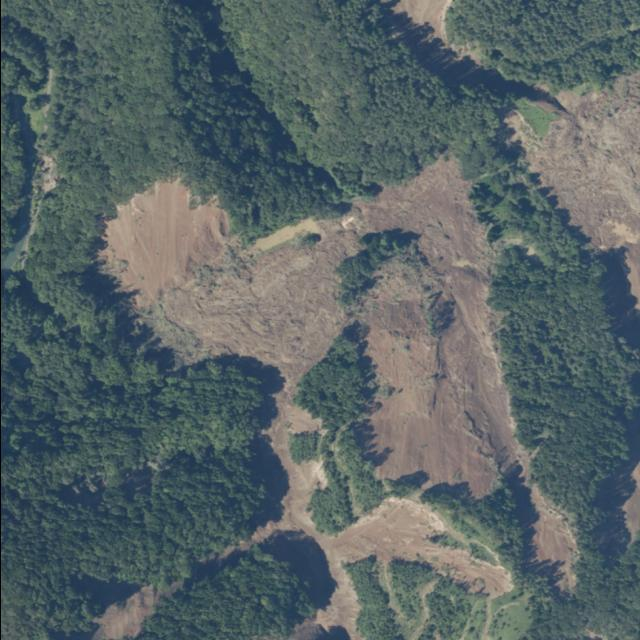landslide: (103, 159, 529, 640), (505, 73, 640, 297)
